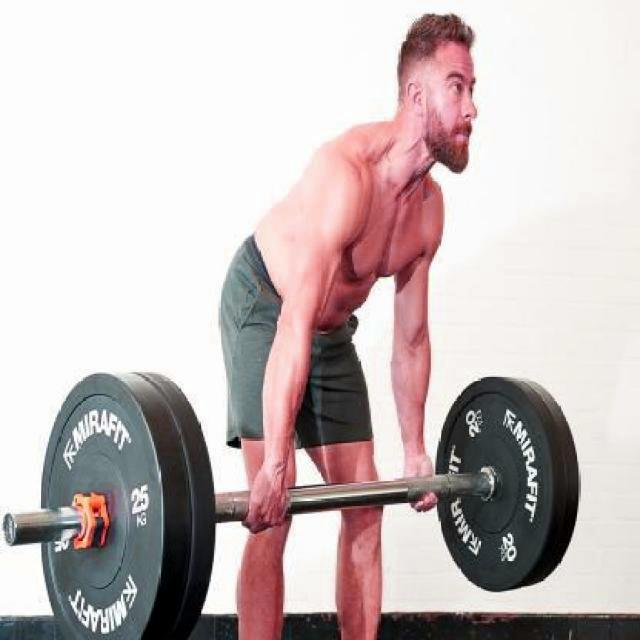barbell: (24, 357, 242, 639), (432, 369, 585, 597)
